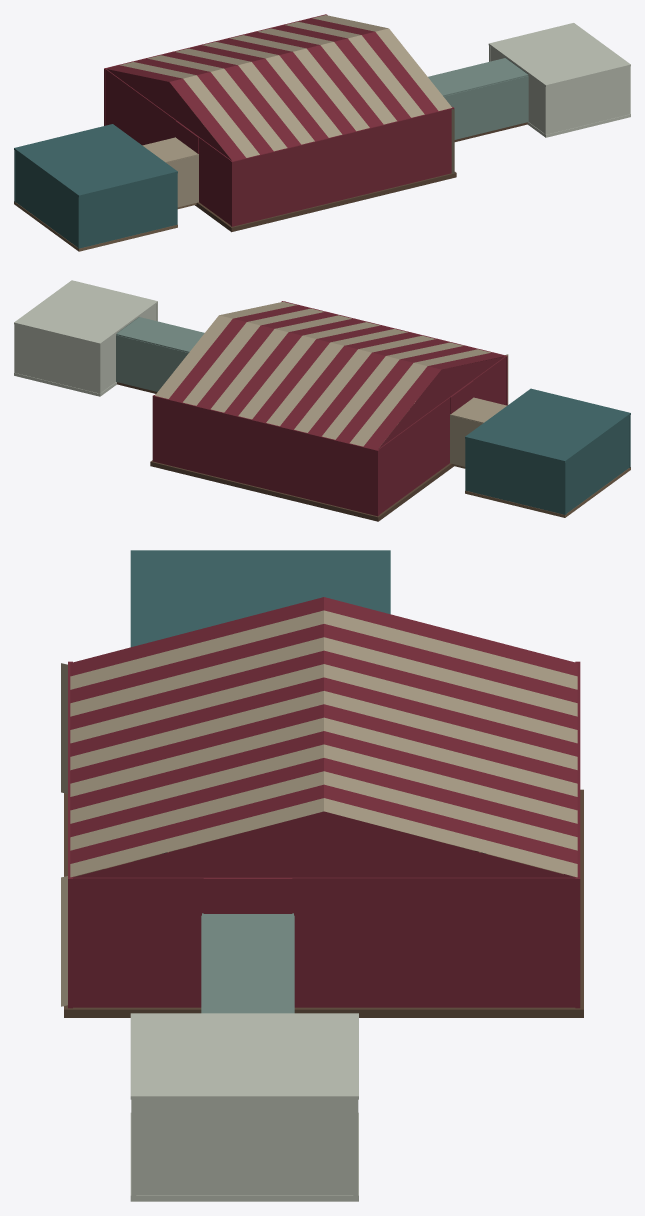
The model's file is chapter_location.glb.
3 views of the same model, one above another, from view 1: azimuth 30°, elevation 25°; view 2: azimuth 150°, elevation 25°; view 3: azimuth 270°, elevation 25° (orthographic). The views are drawn at different scales.
Visible parts, largest first — view 1: End canvas.001, Dressing ceiling, Dressing end.001, Clinic ceiling, Clinic end.001, Service wall.001, Dressing wall, Main side wall, Canvas gable, Main side wall.001, Service ceiling, Striped tent roof.008 (+23 smaller); view 2: End canvas, Dressing ceiling, Dressing end, Clinic ceiling, Main side wall, Clinic end, Dressing wall, Service wall, Canvas gable, Main floor, Striped tent roof.003, Striped tent roof.009 (+23 smaller); view 3: Main side wall.002, Clinic side.002, Clinic ceiling, Dressing ceiling, Canvas gable.001, Main side wall.003, Service ceiling, Striped tent roof.004, Striped tent roof, Striped tent roof.002, Striped tent roof.009, Striped tent roof.012 (+18 smaller).
Part boxes in pixels (box(x1,y1,x2,y2)): End canvas.001: box(230, 107, 454, 226); Dressing ceiling: box(14, 124, 177, 197); Dressing end.001: box(77, 173, 177, 248); Clinic ceiling: box(488, 23, 630, 86); Clinic end.001: box(544, 66, 630, 134); Service wall.001: box(444, 76, 528, 139); Dressing wall: box(15, 151, 77, 247); Main side wall: box(105, 69, 176, 145); Canvas gable: box(107, 69, 231, 160); Main side wall.001: box(198, 137, 232, 224); Service ceiling: box(428, 58, 528, 96); Striped tent roof.008: box(216, 38, 355, 134); End canvas: box(152, 395, 379, 516); Dressing ceiling: box(465, 388, 630, 462); Dressing end: box(465, 438, 566, 514); Clinic ceiling: box(14, 280, 157, 344); Main side wall: box(378, 397, 450, 514); Clinic end: box(14, 324, 101, 393); Dressing wall: box(566, 416, 629, 513); Service wall: box(116, 335, 188, 391); Canvas gable: box(378, 356, 504, 448); Main floor: box(150, 460, 453, 521); Striped tent roof.003: box(322, 342, 463, 439); Striped tent roof.009: box(238, 322, 380, 419); Main side wall.002: box(292, 876, 577, 1007); Clinic side.002: box(136, 1099, 353, 1195); Clinic ceiling: box(130, 1013, 358, 1099); Dressing ceiling: box(130, 550, 390, 647); Canvas gable.001: box(73, 811, 575, 877); Main side wall.003: box(70, 876, 203, 1007); Service ceiling: box(202, 913, 293, 1013); Striped tent roof.004: box(70, 650, 577, 729); Striped tent roof: box(70, 597, 577, 676); Striped tent roof.002: box(70, 624, 577, 703); Striped tent roof.009: box(70, 717, 577, 796); Striped tent roof.012: box(70, 758, 577, 837).
Size of the model in its own units: 40.2 by 7.16 by 16.5.
